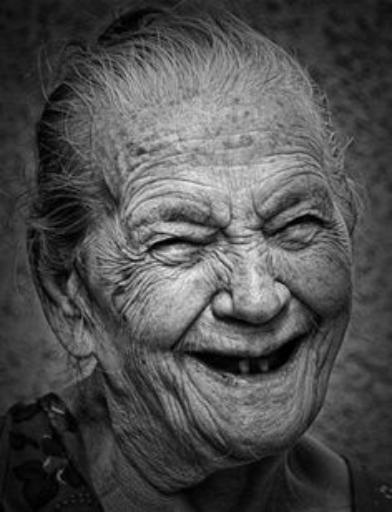left_eye: (265, 211, 330, 244)
left_lip_corner: (295, 328, 317, 349)
right_eye: (145, 229, 208, 258)
right_lip_corner: (180, 342, 205, 367)
